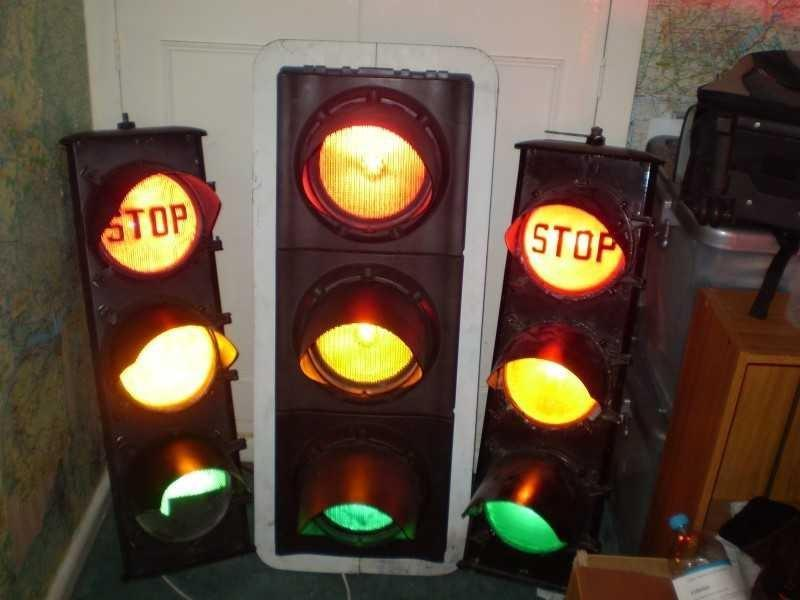9: (296, 259, 446, 426), (104, 306, 236, 424), (488, 314, 605, 437)
red traffic light: (460, 452, 582, 574), (296, 449, 422, 557)
